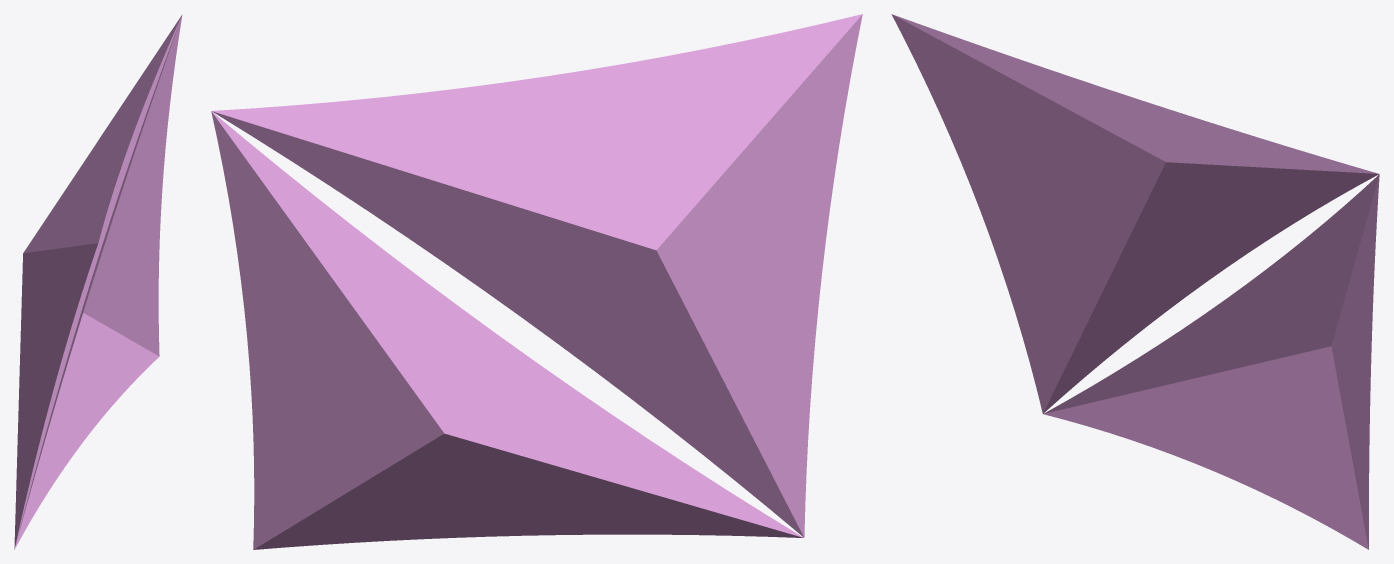
Rendered from TYPE5-2.glb.
The picture shows the model from 3 angles, left to right: view 1: azimuth 30°, elevation 25°; view 2: azimuth 150°, elevation 25°; view 3: azimuth 270°, elevation 25°; orthographic projection. The views are drawn at different scales.
Parts seen in each view (by area): view 1: TYPE5-2 (×6); view 2: TYPE5-2 (×6); view 3: TYPE5-2 (×6).
Boxes of the visible parts, bbox=[...] form: TYPE5-2 (×6): bbox=[14, 15, 182, 549]; TYPE5-2 (×6): bbox=[211, 14, 862, 549]; TYPE5-2 (×6): bbox=[891, 14, 1379, 549].
Size of the model in its own units: 7.02 by 7.66 by 8.1.
